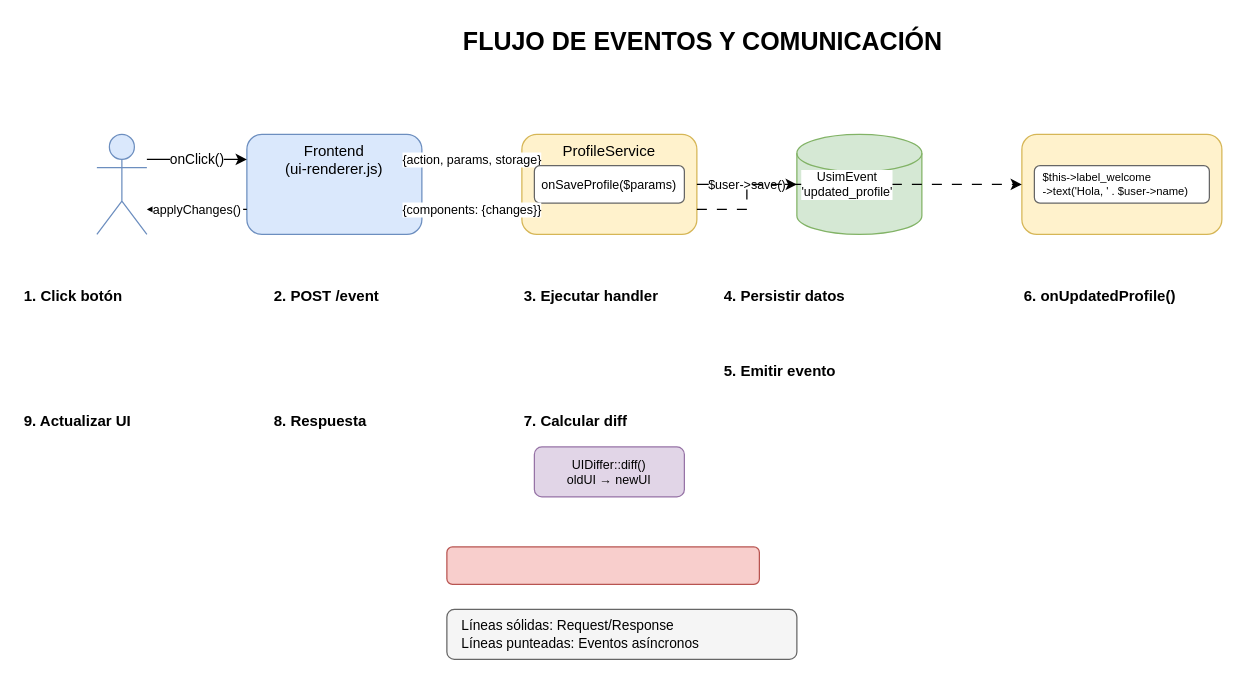
The diagram is 1244 pixels wide and 681 high, and some of its shapes have lost their labels. The shapes that lost their labels are listed below. From the top down, each one's centre as x and y in pixels, then its label:
At point 121,183: "👤 Usuario".
At point 859,183: "📊 Database".
At point 602,565: "⏱️ Latencia típica: 80-200ms".
